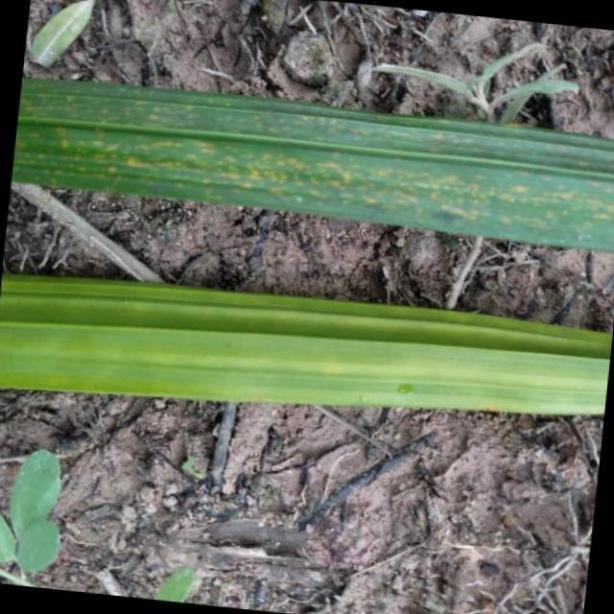nitrogen: (11, 64, 614, 249), (3, 270, 614, 416)
